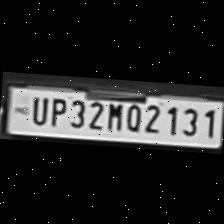1: (198, 105, 219, 138), (160, 100, 180, 134)
2: (140, 100, 162, 134), (85, 97, 105, 129)
3: (177, 103, 200, 136), (66, 94, 86, 127)
M: (103, 98, 125, 130)
P: (45, 92, 67, 125)
Q: (122, 99, 142, 130)
U: (26, 92, 48, 124)
